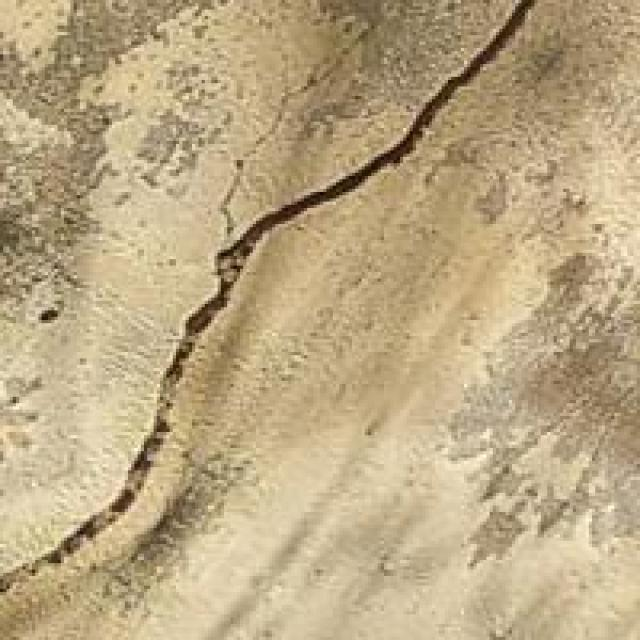crack: (6, 0, 554, 637)
